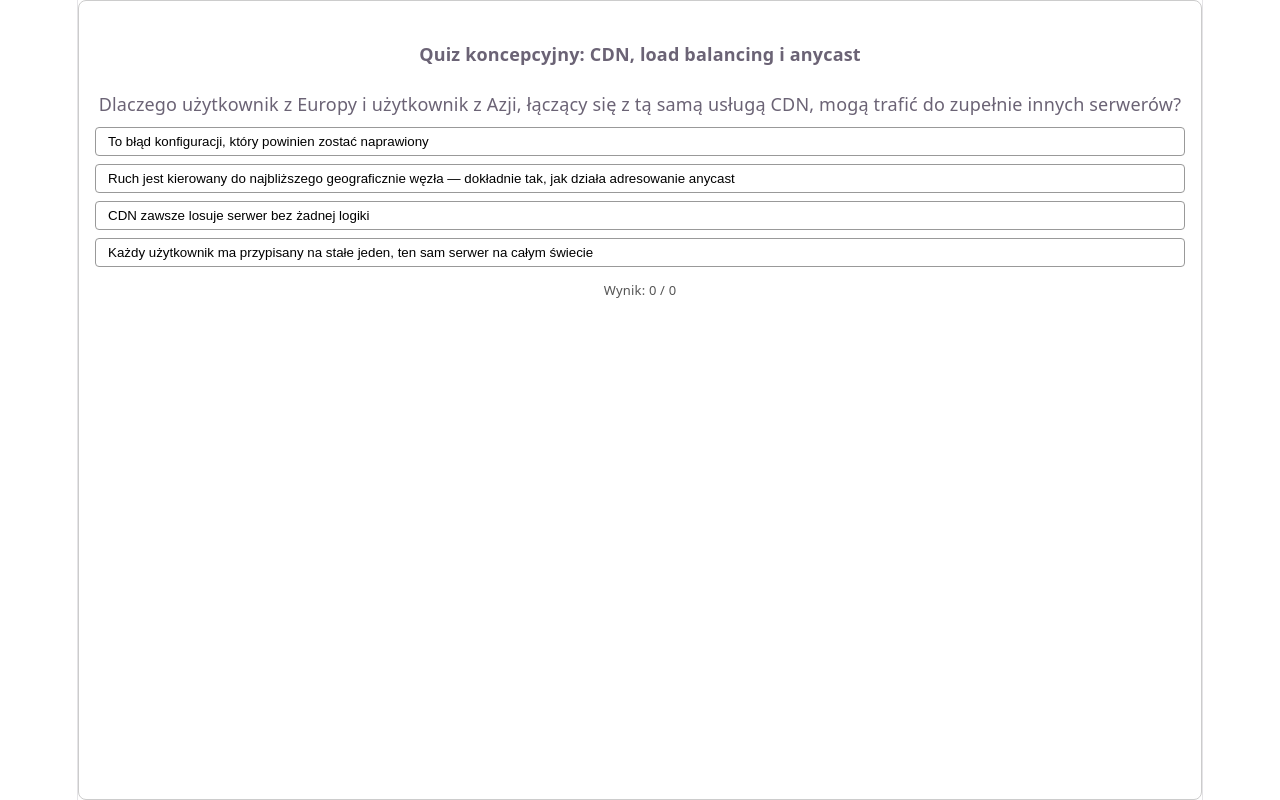
Test: CdnAndAnycastQuiz › shows feedback and increments the score after a correct answer
Click the button named "Ruch jest kierowany do najbliższego geograficznie węzła — dokładnie tak, jak działa adresowanie anycast". click: (640, 179)
box: [95,164,1185,193]
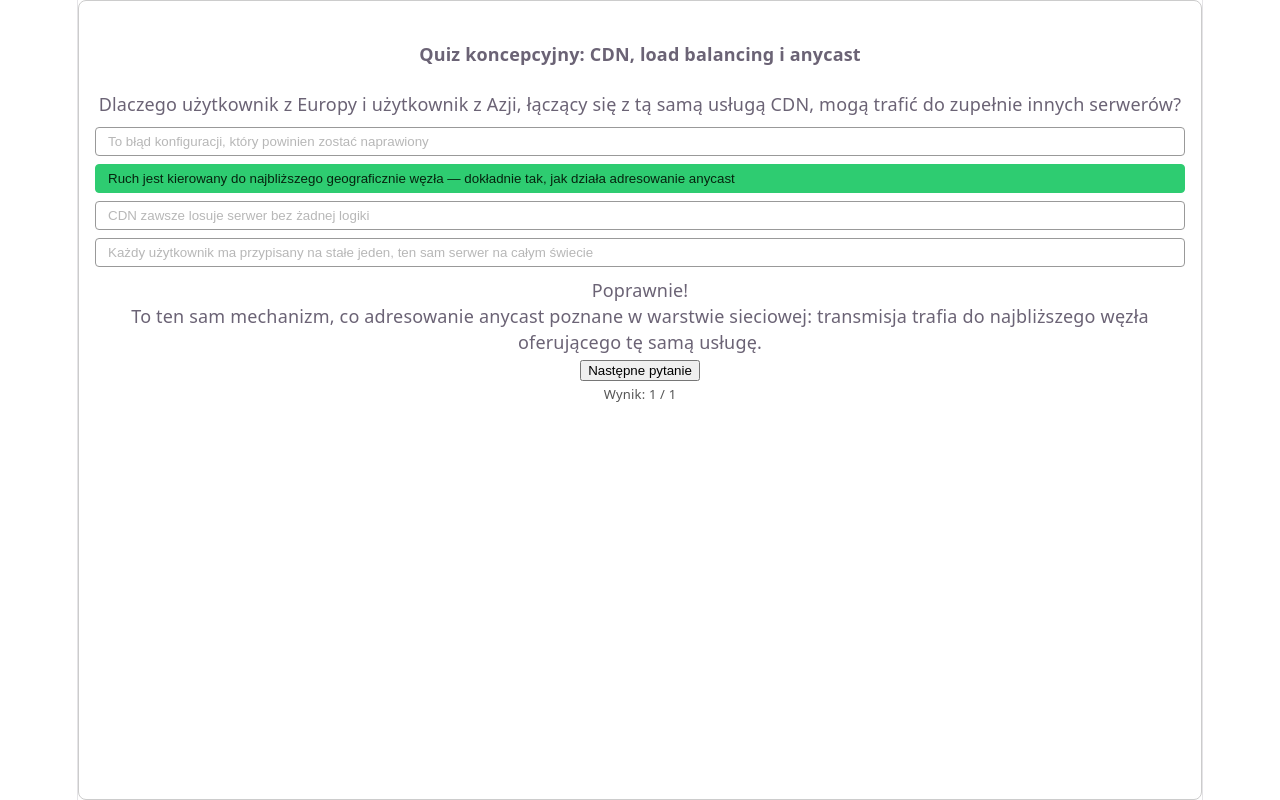
Expected: the text "Poprawnie!" is shown, [592,278,688,302]
Expected: the text "Wynik: 1 / 1" is shown, [604,385,676,403]
